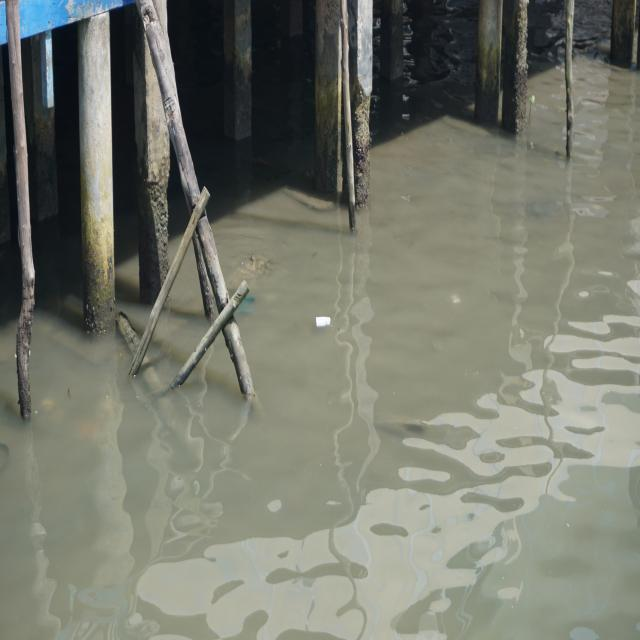Bungkus Minuman: (316, 314, 334, 331)
